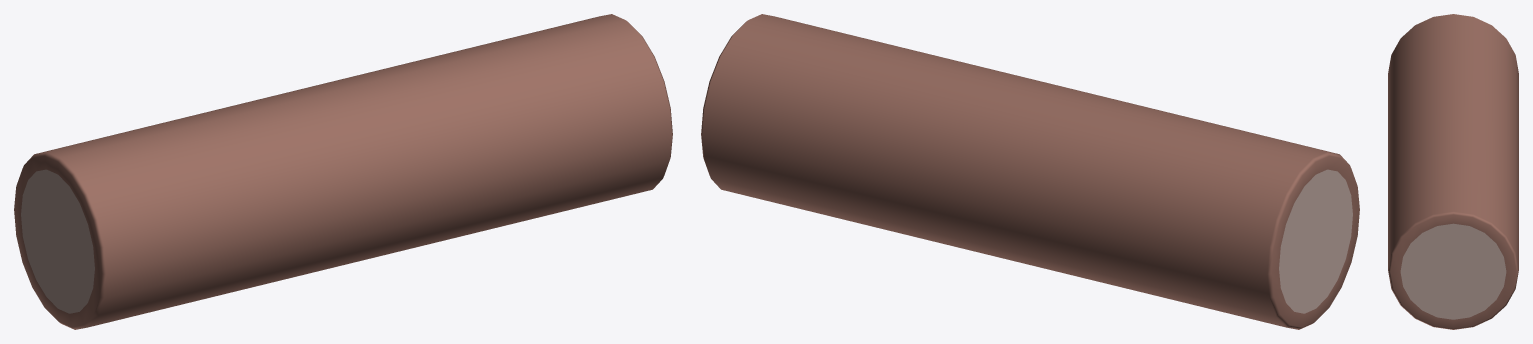
File: City_17_Log_2.glb
3 renders of one model, left to right at view 1: azimuth 30°, elevation 25°; view 2: azimuth 150°, elevation 25°; view 3: azimuth 270°, elevation 25°, orthographic. The views are drawn at different scales.
Visible parts, largest first — view 1: City_17_Log_2; view 2: City_17_Log_2; view 3: City_17_Log_2.
Part boxes in pixels (x1=…): City_17_Log_2: x1=14, y1=14, x2=672, y2=329; City_17_Log_2: x1=701, y1=14, x2=1359, y2=329; City_17_Log_2: x1=1388, y1=14, x2=1518, y2=329.
Bounding box in the file's own units: 0.7952 × 0.2203 × 0.2203.
1 material, 1 textured.
